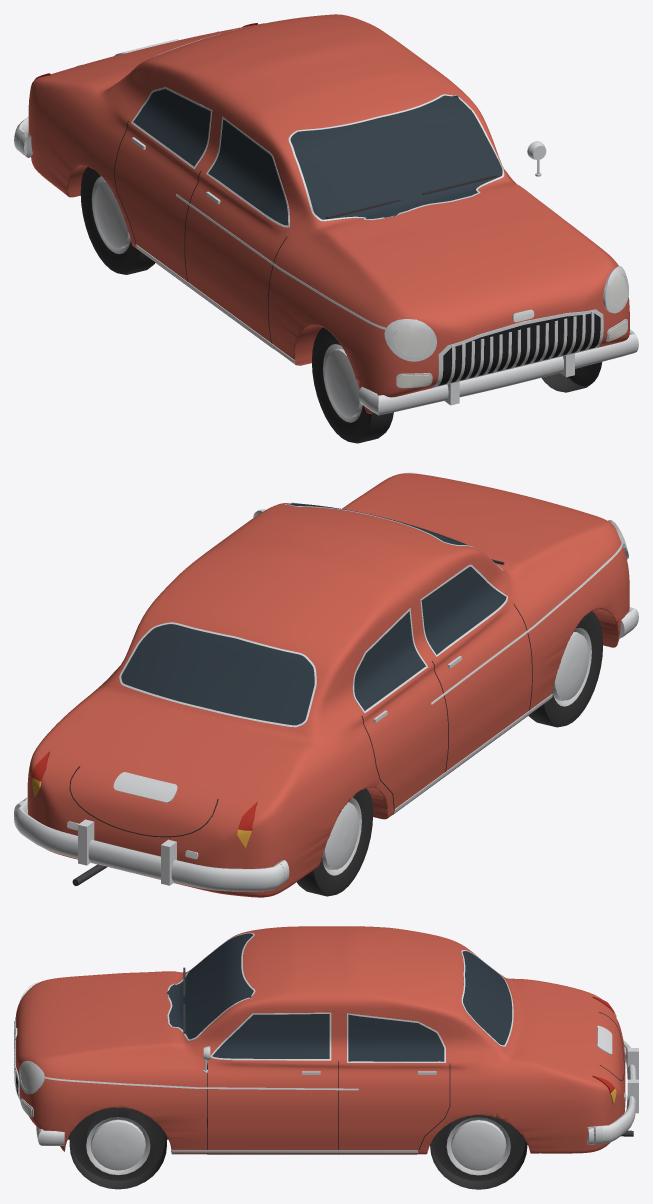
The model's file is gaz21.glb.
3 views of the same model, one above another, from view 1: azimuth 30°, elevation 25°; view 2: azimuth 150°, elevation 25°; view 3: azimuth 270°, elevation 25° (orthographic). The views are drawn at different scales.
Visible parts, largest first — view 1: paint, glass, trim, wheel_fr, wheel_rr, headlights, wheel_fl; view 2: paint, glass, trim, wheel_fr, wheel_rr; view 3: paint, glass, trim, wheel_fl, wheel_rl.
Boxes of the visible parts, x1,y1,x2,y2 form: paint: [28, 14, 629, 413]; glass: [133, 89, 502, 225]; trim: [14, 29, 638, 415]; wheel_fr: [312, 327, 393, 443]; wheel_rr: [80, 167, 155, 274]; headlights: [393, 274, 626, 356]; wheel_fl: [541, 362, 602, 392]; paint: [27, 473, 629, 897]; glass: [121, 503, 506, 725]; trim: [14, 472, 638, 891]; wheel_fr: [528, 611, 602, 727]; wheel_rr: [297, 788, 372, 896]; paint: [15, 926, 625, 1154]; glass: [167, 933, 511, 1061]; trim: [14, 932, 638, 1154]; wheel_fl: [69, 1107, 166, 1189]; wheel_rl: [430, 1117, 527, 1189].
Bounding box in the file's own units: 1.88 × 1.61 × 4.68.
